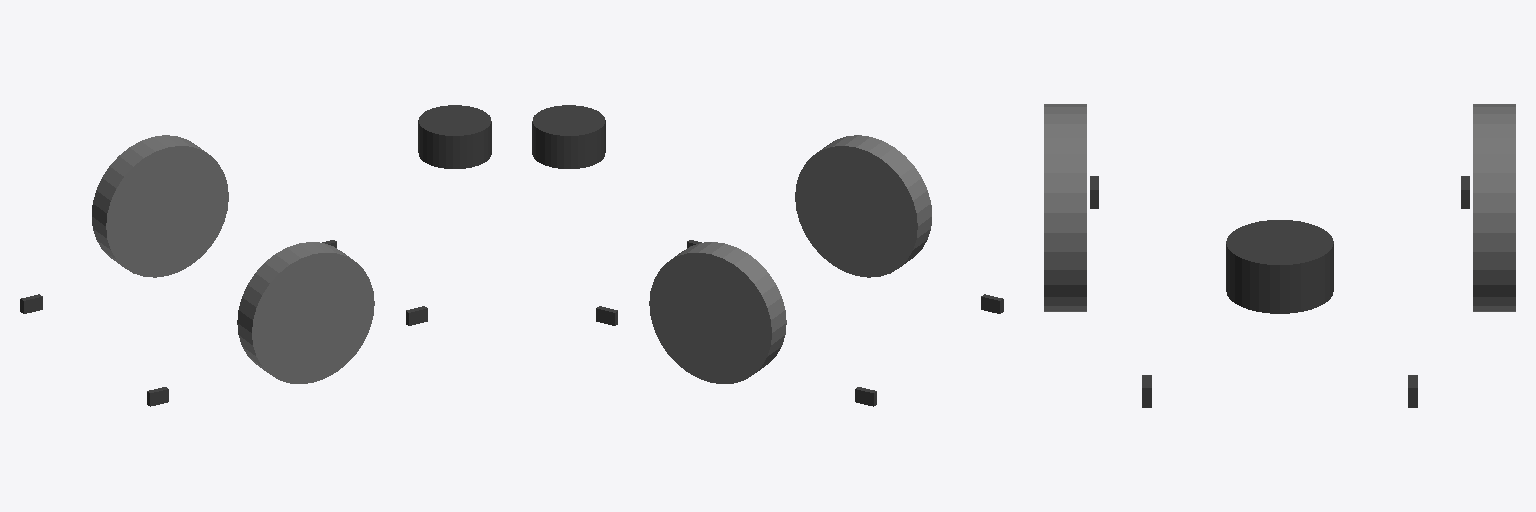
URDF robot description (ld250):
<?xml version="1.0"?>
<!-- This URDF was automatically created by SolidWorks to URDF Exporter! Originally created by Stephen Brawner (brawner@gmail.com) 
     Commit Version: 1.6.0-4-g7f85cfe  Build Version: 1.6.7995.38578
     For more information, please see http://wiki.ros.org/sw_urdf_exporter -->
<robot
  name="ld250">
  <link name="base_link">
    <inertial>
      <origin
        xyz="-0.0 -0.000558579656259341 0.19628085445742"
        rpy="0 0 0" />
      <mass
        value="31.7708874265635" />
      <inertia
        ixx="1.4321537364116817"
        ixy="-0.00021015290755151665"
        ixz="0.005496458779909017"
        iyy="2.3703850448798"
        iyz="7.091594704601167e-05"
        izz="3.2982263614754664" />
    </inertial>
    <visual>
      <origin
        xyz="0 0 0"
        rpy="0 0 0" />
      <geometry>
        <mesh
          filename="meshes/base/base_link.stl" />
      </geometry>
      <material
        name="">
        <color
          rgba="0.792156862745098 0.819607843137255 0.933333333333333 1" />
      </material>
    </visual>

    <collision>
      <origin xyz="0 0 0.10" rpy="0 0 0" />
      <geometry>
        <box size="0.60 0.32 0.15" />
      </geometry>
    </collision>
  </link>
  <link name="upper_link">
    <inertial>
      <origin
        xyz="0.0 7.40048026755735E-07 0.183962865049824"
        rpy="0 0 0" />
      <mass
        value="37.86583486185633" />
      <inertia
        ixx="1.8045202567614834"
        ixy="-4.3952180272563335e-07"
        ixz="-0.0039263930777950835"
        iyy="2.9443091970742164"
        iyz="4.0945343968703666e-08"
        izz="3.9494696074514165" />
    </inertial>
    <visual>
      <origin
        xyz="0 0 0"
        rpy="0 0 0" />
      <geometry>
        <mesh
          filename="meshes/upper/upper_link.STL" />
      </geometry>
      <material
        name="">
        <color
          rgba="0.850980392156863 0.850980392156863 0.850980392156863 1" />
      </material>
    </visual>
    <collision>
      <origin
        xyz="0 0 0"
        rpy="0 0 0" />
      <geometry>
        <mesh
          filename="meshes/upper/upper_link.STL" />
      </geometry>
    </collision>
  </link>
  <joint name="upper_joint"
    type="fixed">
    <origin
      xyz="0 0 0.38281"
      rpy="0 0 0" />
    <parent
      link="base_link" />
    <child
      link="upper_link" />
    <axis
      xyz="0 0 0" />
  </joint>
  <!-- <link
    name="fan_link">
    <inertial>
      <origin
        xyz="0.0 2.8597108135497E-06 -5.82428649753552E-09"
        rpy="0 0 0" />
      <mass
        value="0.0038489737266031" />
      <inertia
        ixx="1.15831667938019E-06"
        ixy="-4.12029069162888E-12"
        ixz="-3.16330010117498E-15"
        iyy="4.78657875718181E-07"
        iyz="-3.64679814467869E-13"
        izz="6.85667057912928E-07" />
    </inertial>
    <visual>
      <origin
        xyz="0 0 0"
        rpy="0 0 0" />
      <geometry>
        <mesh
          filename="meshes/fan/fan_link.STL" />
      </geometry>
      <material
        name="">
        <color
          rgba="0.898039215686275 0.898039215686275 0.898039215686275 1" />
      </material>
    </visual>
    <collision>
      <origin xyz="0 0 0" rpy="0 0 0"/>
      <geometry>
        <cylinder radius="0.05" length="0.10"/>
      </geometry>
    </collision>
  </link>
  <joint
    name="fan_joint"
    type="fixed">
    <origin
      xyz="-0.47255 0 0.16501"
      rpy="0 0 0" />
    <parent
      link="upper_link" />
    <child
      link="fan_link" />
    <axis
      xyz="0 0 0" />
  </joint> -->
  <!-- <link
    name="control_link">
    <inertial>
      <origin
        xyz="0.0 -0.00141317441381272 -0.349182398611431"
        rpy="0 0 0" />
      <mass
        value="0.420849252973465" />
      <inertia
        ixx="0.000918325123704163"
        ixy="1.36329247254393E-07"
        ixz="-5.17110306529599E-07"
        iyy="0.000258354798435456"
        iyz="2.56383545417557E-07"
        izz="0.000733000766338133" />
    </inertial>
    <visual>
      <origin
        xyz="0 0 0"
        rpy="0 0 0" />
      <geometry>
        <mesh
          filename="meshes/control/control_link.STL" />
      </geometry>
      <material
        name="">
        <color
          rgba="0.792156862745098 0.819607843137255 0.933333333333333 1" />
      </material>
    </visual>
    <collision>
      <origin xyz="0 0 0" rpy="0 0 0"/>
      <geometry>
        <box size="0.20 0.20 0.05"/>
      </geometry>
    </collision>
  </link>
  <joint
    name="control_joint"
    type="fixed">
    <origin
      xyz="0.56264 0.00088934 0.43525"
      rpy="0 0 0" />
    <parent
      link="fan_link" />
    <child
      link="control_link" />
    <axis
      xyz="0 0 0" />
  </joint> -->
  <!-- <link
    name="frame_link">
    <inertial>
      <origin
        xyz="0.0 -0.152999947432566 0.797861460445962"
        rpy="0 0 0" />
      <mass
        value="0.399714915773003" />
      <inertia
        ixx="0.000655125238933837"
        ixy="1.17229561300883E-09"
        ixz="-3.47283508374263E-20"
        iyy="0.00104193535537068"
        iyz="1.90582413132218E-19"
        izz="0.000735312069266715" />
    </inertial>
    <visual>
      <origin
        xyz="0 0 0"
        rpy="0 0 0" />
      <geometry>
        <mesh
          filename="meshes/frame/frame.stl" />
      </geometry>
      <material
        name="">
        <color
          rgba="0.752941176470588 0.752941176470588 0.752941176470588 1" />
      </material>
    </visual>
    <collision>
      <origin xyz="0 0 0.5" rpy="0 0 0"/>
      <geometry>
        <box size="0.01 0.01 0.01"/>
      </geometry>
    </collision>
  </link>
  <joint
    name="frame_joint"
    type="fixed">
    <origin
      xyz="-0.090091 -0.00088934 -0.98307"
      rpy="0 0 0" />
    <parent
      link="control_link" />
    <child
      link="frame_link" />
    <axis
      xyz="0 0 0" />
  </joint>
  <link
    name="R_box_link_1">
    <inertial>
      <origin
        xyz="2.77555756156289E-17 1.11022302462516E-16 0.000100584828996442"
        rpy="0 0 0" />
      <mass value="0.01"/>
      <inertia
        ixx="5.23e-05" iyy="6.34e-05" izz="8.76e-05"
        ixy="3.31e-11" ixz="1.13e-20" iyz="7.54e-21"/>
    </inertial>
    <visual>
      <origin
        xyz="0 0 0"
        rpy="0 0 0" />
      <geometry>
        <mesh
          filename="meshes/R_box/R_box_link_1.STL" />
      </geometry>
      <material
        name="">
        <color
          rgba="0.792156862745098 0.819607843137255 0.933333333333333 1" />
      </material>
    </visual>
    <collision>
      <origin xyz="0 0 0" rpy="0 0 0"/>
      <geometry>
        <box size="0.15 0.10 0.15"/>
      </geometry>
    </collision>
  </link>
  <joint
    name="R_box_joint_1"
    type="fixed">
    <origin
      xyz="0.206964029465435 -0.152999947432566 0.825808780811189"
      rpy="0 0 0" />
    <parent
      link="frame_link" />
    <child
      link="R_box_link_1" />
    <axis
      xyz="0 0 0" />
  </joint>
  <link
    name="R_box_link_2">
    <inertial>
      <origin
        xyz="1.11022302462516E-16 1.11022302462516E-16 0.000100584828996775"
        rpy="0 0 0" />
      <mass value="0.01"/>
      <inertia
        ixx="5.23e-05" iyy="6.34e-05" izz="8.76e-05"
        ixy="3.31e-11" ixz="1.23e-20" iyz="8.16e-21"/>
    </inertial>
    <visual>
      <origin
        xyz="0 0 0"
        rpy="0 0 0" />
      <geometry>
        <mesh
          filename="meshes/R_box/R_box_link_2.STL" />
      </geometry>
      <material
        name="">
        <color
          rgba="0.792156862745098 0.819607843137255 0.933333333333333 1" />
      </material>
    </visual>
    <collision>
      <origin xyz="0 0 0" rpy="0 0 0"/>
      <geometry>
        <box size="0.15 0.10 0.15"/>
      </geometry>
    </collision>
  </link>
  <joint
    name="R_box_joint_2"
    type="fixed">
    <origin
      xyz="0 0 0.09"
      rpy="0 0 0" />
    <parent
      link="R_box_link_1" />
    <child
      link="R_box_link_2" />
    <axis
      xyz="0 0 0" />
  </joint>
  <link
    name="L_box_link_1">
    <inertial>
      <origin
        xyz="8.32667268468867E-17 5.55111512312578E-17 0.000165121334551155"
        rpy="0 0 0" />
      <mass value="0.01"/>
      <inertia
        ixx="7.63e-05" iyy="1.15e-04" izz="1.17e-04"
        ixy="1.18e-10" ixz="1.05e-20" iyz="2.86e-20"/>
    </inertial>
    <visual>
      <origin
        xyz="0 0 0"
        rpy="0 0 0" />
      <geometry>
        <mesh
          filename="meshes/L_box/L_box_link_1.STL" />
      </geometry>
      <material
        name="">
        <color
          rgba="0.792156862745098 0.819607843137255 0.933333333333333 1" />
      </material>
    </visual>
    <collision>
      <origin
        xyz="0 0 0"
        rpy="0 0 0" />
      <geometry>
        <mesh
          filename="meshes/L_box/L_box_link_1.STL" />
      </geometry>
    </collision>
  </link>
  <joint
    name="L_box_joint1"
    type="fixed">
    <origin
      xyz="0.232104004883298 0.159817197207416 0.855808780811189"
      rpy="0 0 0" />
    <parent
      link="frame_link" />
    <child
      link="L_box_link_1" />
    <axis
      xyz="0 0 0" />
  </joint>
  <link
    name="L_box_link_2">
    <inertial>
      <origin
        xyz="1.38777878078145E-16 5.55111512312578E-17 0.000165121334550822"
        rpy="0 0 0" />
      <mass value="0.01"/>
      <inertia
        ixx="7.63e-05" iyy="1.15e-04" izz="1.17e-04"
        ixy="1.18e-10" ixz="-3.37e-21" iyz="9.19e-21"/>
    </inertial>
    <visual>
      <origin
        xyz="0 0 0"
        rpy="0 0 0" />
      <geometry>
        <mesh
          filename="meshes/L_box/L_box_link_2.STL" />
      </geometry>
      <material
        name="">
        <color
          rgba="0.792156862745098 0.819607843137255 0.933333333333333 1" />
      </material>
    </visual>
    <collision>
      <origin
        xyz="0 0 0"
        rpy="0 0 0" />
      <geometry>
        <mesh
          filename="meshes/L_box/L_box_link_2.STL" />
      </geometry>
    </collision>
  </link>
  <joint
    name="L_box_joint_2"
    type="fixed">
    <origin
      xyz="0 0 0.15"
      rpy="0 0 0" />
    <parent
      link="L_box_link_1" />
    <child
      link="L_box_link_2" />
    <axis
      xyz="0 0 0" />
  </joint> -->

  <!-- Wheel Left -->
  <link name="wheel_left">
    <inertial>
      <origin xyz="0 0 0" rpy="0 0 0"/>
      <mass value="1.5"/>
      <inertia 
        ixx="0.00372" ixy="0" ixz="0"
        iyy="0.00704" iyz="0"
        izz="0.00372"/>
    </inertial>
    
    <!-- Collision only: cylinder for simplicity -->
    <visual>
      <origin xyz="0 0 0" rpy="1.5708 0 0"/>
      <geometry>
        <cylinder radius="0.09684" length="0.04"/>
      </geometry>
      <material name="gray">
        <color rgba="0.5 0.5 0.5 1"/>
      </material>
    </visual>
    <collision>
      <origin xyz="0 0 0" rpy="1.5708 0 0" />
      <geometry>
        <cylinder radius="0.09684" length="0.04" />
      </geometry>
    </collision>
  </link>
  <joint name="wheel_left_joint" type="continuous">
    <origin xyz="0.0 0.1991 0.09684" rpy="0 0 0" />
    <parent link="base_link" />
    <child link="wheel_left" />
    <axis xyz="0 1 0" />
  </joint>

  <!-- Wheel Right -->
  <link name="wheel_right">
    <inertial>
      <origin xyz="0 0 0" rpy="0 0 0"/>
      <mass value="1.5"/>
      <inertia 
        ixx="0.00372" ixy="0" ixz="0"
        iyy="0.00704" iyz="0"
        izz="0.00372"/>
    </inertial>
    <visual>
      <origin xyz="0 0 0" rpy="1.5708 0 0"/>
      <geometry>
        <cylinder radius="0.09684" length="0.04"/>
      </geometry>
      <material name="gray">
        <color rgba="0.5 0.5 0.5 1"/>
      </material>
    </visual>
    <collision>
      <origin xyz="0 0 0" rpy="1.5708 0 0" />
      <geometry>
        <cylinder radius="0.09684" length="0.04" />
      </geometry>
    </collision>
  </link>

  <joint name="wheel_right_joint" type="continuous">
    <origin xyz="0.0 -0.1991 0.09684" rpy="0 0 0" />
    <parent link="base_link" />
    <child link="wheel_right" />
    <axis xyz="0 1 0" />
  </joint>

  <!-- Caster Front Left -->
  <joint name="caster_front_left_joint" type="fixed">
    <origin xyz="0.2182 0.1238 0.011" rpy="0 0 0"/>
    <parent link="base_link"/>
    <child link="caster_front_left"/>
  </joint>

  <link name="caster_front_left">
    <visual>
      <origin xyz="0 0 0" rpy="0 0 0"/>
      <geometry>
        <box size="0.030 0.009 0.020"/>
      </geometry>
      <material name="grey">
        <color rgba="0.3 0.3 0.3 1.0"/>
      </material>
    </visual>
    <collision>
      <origin xyz="0 0 0" rpy="0 0 0"/>
      <geometry>
        <box size="0.030 0.009 0.020"/>
      </geometry>
    </collision>
    <inertial>
      <origin xyz="0 0 0"/>
      <mass value="0.005"/>
      <inertia ixx="2.0e-7" ixy="0" ixz="0"
              iyy="5.42e-7" iyz="0"
              izz="4.09e-7"/>
    </inertial>
  </link>

  <!-- Caster Front Right -->
  <joint name="caster_front_right_joint" type="fixed">
    <origin xyz="0.2182 -0.1238 0.011" rpy="0 0 0"/>
    <parent link="base_link"/>
    <child link="caster_front_right"/>
  </joint>

  <link name="caster_front_right">
    <visual>
      <origin xyz="0 0 0" rpy="0 0 0"/>
      <geometry>
        <box size="0.030 0.009 0.020"/>
      </geometry>
      <material name="grey">
        <color rgba="0.3 0.3 0.3 1.0"/>
      </material>
    </visual>
    <collision>
      <origin xyz="0 0 0" rpy="0 0 0"/>
      <geometry>
        <box size="0.030 0.009 0.020"/>
      </geometry>
    </collision>
    <inertial>
      <origin xyz="0 0 0"/>
      <mass value="0.005"/>
      <inertia ixx="2.0e-7" ixy="0" ixz="0"
              iyy="5.42e-7" iyz="0"
              izz="4.09e-7"/>
    </inertial>
  </link>

  <!-- Caster Back Left -->
  <joint name="caster_back_left_joint" type="fixed">
    <origin xyz="-0.2182 0.1725 0.011" rpy="0 0 0"/>
    <parent link="base_link"/>
    <child link="caster_back_left"/>
  </joint>

  <link name="caster_back_left">
    <visual>
      <origin xyz="0 0 0" rpy="0 0 0"/>
      <geometry>
        <box size="0.030 0.009 0.020"/>
      </geometry>
      <material name="grey">
        <color rgba="0.3 0.3 0.3 1.0"/>
      </material>
    </visual>
    <collision>
      <origin xyz="0 0 0" rpy="0 0 0"/>
      <geometry>
        <box size="0.030 0.009 0.020"/>
      </geometry>
    </collision>
    <inertial>
      <origin xyz="0 0 0"/>
      <mass value="0.005"/>
      <inertia ixx="2.0e-7" ixy="0" ixz="0"
              iyy="5.42e-7" iyz="0"
              izz="4.09e-7"/>
    </inertial>
  </link>

  <!-- Caster Back Right -->
  <joint name="caster_back_right_joint" type="fixed">
    <origin xyz="-0.2182 -0.1725 0.011" rpy="0 0 0"/>
    <parent link="base_link"/>
    <child link="caster_back_right"/>
  </joint>

  <link name="caster_back_right">
    <visual>
      <origin xyz="0 0 0" rpy="0 0 0"/>
      <geometry>
        <box size="0.030 0.009 0.020"/>
      </geometry>
      <material name="grey">
        <color rgba="0.3 0.3 0.3 1.0"/>
      </material>
    </visual>
    <collision>
      <origin xyz="0 0 0" rpy="0 0 0"/>
      <geometry>
        <box size="0.030 0.009 0.020"/>
      </geometry>
    </collision>
    <inertial>
      <origin xyz="0 0 0"/>
      <mass value="0.005"/>
      <inertia ixx="2.0e-7" ixy="0" ixz="0"
              iyy="5.42e-7" iyz="0"
              izz="4.09e-7"/>
    </inertial>
  </link>

  <!-- Lidar mounting link: base_scan -->
  <link name="base_scan">
    <inertial>
      <origin xyz="0 0 0" rpy="0 0 0" />
      <!-- Small mass and inertia for the sensor frame -->
      <mass value="0.05" />
      <inertia ixx="0.0001" ixy="0" ixz="0"
               iyy="0.0001" iyz="0" izz="0.0001" />
    </inertial>
    <!-- Small cylinder to represent the sensor mount -->
    <visual>
      <origin xyz="0 0 0" rpy="0 0 0" />
      <geometry>
        <cylinder radius="0.05" length="0.05" />
      </geometry>
      <material name="black">
        <color rgba="0.3 0.3 0.3 1" />
      </material>
    </visual>
    <collision>
      <origin xyz="0 0 0" rpy="0 0 0" />
      <geometry>
        <cylinder radius="0.05" length="0.05" />
      </geometry>
    </collision>
  </link>
  <joint name="scan_joint" type="fixed">
    <!-- Position the sensor above the chassis to avoid mesh overlap -->
    <origin xyz="0.35 0 0.20" rpy="0 0 0" />
    <parent link="base_link" />
    <child link="base_scan" />
  </joint>

<gazebo reference="caster_front_left">
  <surface>
    <friction>
      <ode>
        <mu>0.0</mu>
        <mu2>0.0</mu2>
        <slip1>1.0</slip1>
        <slip2>1.0</slip2>
      </ode>
    </friction>
  </surface>
</gazebo>

<gazebo reference="caster_front_right">
  <surface>
    <friction>
      <ode>
        <mu>0.0</mu>
        <mu2>0.0</mu2>
        <slip1>1.0</slip1>
        <slip2>1.0</slip2>
      </ode>
    </friction>
  </surface>
</gazebo>

<gazebo reference="caster_back_left">
  <surface>
    <friction>
      <ode>
        <mu>0.0</mu>
        <mu2>0.0</mu2>
        <slip1>1.0</slip1>
        <slip2>1.0</slip2>
      </ode>
    </friction>
  </surface>
</gazebo>

<gazebo reference="caster_back_right">
  <surface>
    <friction>
      <ode>
        <mu>0.0</mu>
        <mu2>0.0</mu2>
        <slip1>1.0</slip1>
        <slip2>1.0</slip2>
      </ode>
    </friction>
  </surface>
</gazebo>
</robot>

--- Facts derived from the render (not from the file) ---
Views: 3 orthographic renders of the robot side by side, from view 1: azimuth 30°, elevation 25°; view 2: azimuth 150°, elevation 25°; view 3: azimuth 270°, elevation 25°.
Model ld250 with 9 links and 8 joints (2 continuous, 6 fixed), rooted at base_link, posed all joints at 0.
Visible links, largest first — view 1: wheel_right, wheel_left, base_scan; view 2: wheel_left, wheel_right, base_scan; view 3: base_scan, wheel_left, wheel_right.
Link boxes in pixels (x1,y1,x2,y2): wheel_right: (237, 242, 374, 383); wheel_left: (92, 135, 228, 277); base_scan: (418, 105, 491, 168); wheel_left: (649, 242, 786, 383); wheel_right: (795, 135, 931, 277); base_scan: (532, 105, 605, 168); base_scan: (1226, 220, 1333, 313); wheel_left: (1473, 104, 1515, 311); wheel_right: (1044, 104, 1086, 311).
Bounding box of the posed robot: 0.6332 × 0.4382 × 0.225 m (x, y, z).
Meshes: 2 distinct files referenced, 0 mesh visuals loaded (none loaded); not drawn: 2 (reference not matched to a file when rendering).
